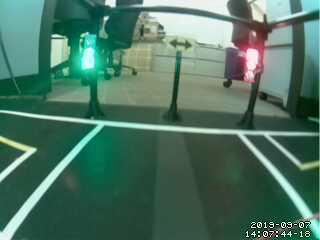Left_Right_sign: (161, 35, 197, 56)
Traffic_light_green: (80, 37, 99, 74)
Traffic_light_red: (238, 49, 262, 83)
